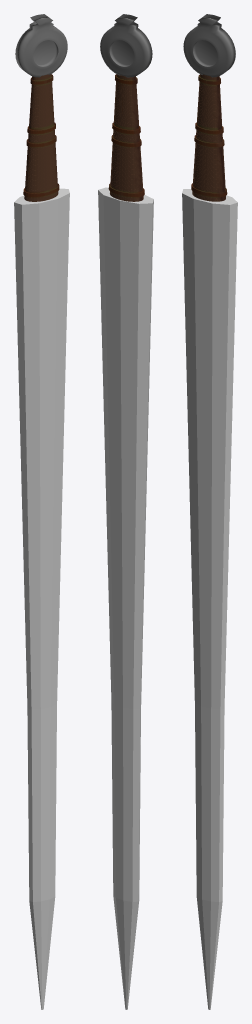
File: knightsword.fbx
3 renders of one model, left to right at view 1: azimuth 30°, elevation 25°; view 2: azimuth 150°, elevation 25°; view 3: azimuth 330°, elevation 25°, orthographic.
Parts seen in each view (by area): view 1: Balde, Handle, pommel; view 2: Balde, Handle, pommel; view 3: Balde, Handle, pommel.
Boxes of the visible parts, left/top/right/bottom form: Balde: left=14, top=188, right=69, bottom=1009; Handle: left=23, top=74, right=59, bottom=201; pommel: left=15, top=14, right=67, bottom=77; Balde: left=98, top=187, right=153, bottom=1009; Handle: left=108, top=74, right=144, bottom=201; pommel: left=100, top=14, right=152, bottom=77; Balde: left=182, top=189, right=237, bottom=1009; Handle: left=191, top=74, right=227, bottom=201; pommel: left=183, top=14, right=235, bottom=77.
Size of the model in its own units: 24.34 by 421 by 9.94.
